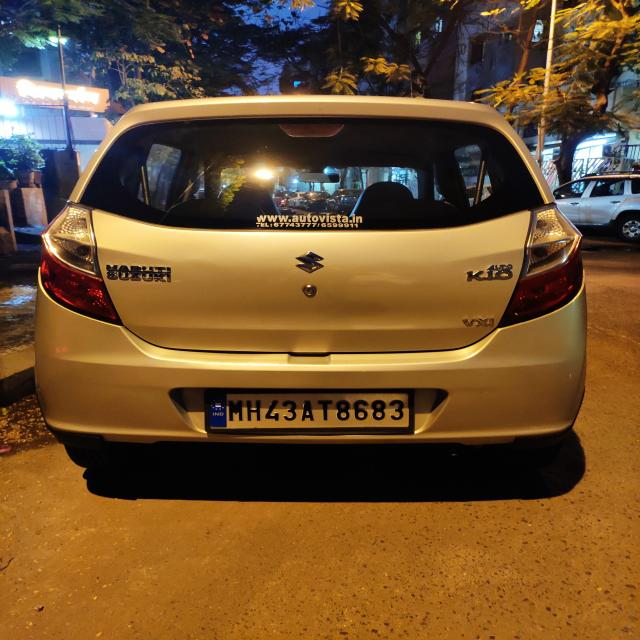Number-Plate: (207, 385, 416, 430)
